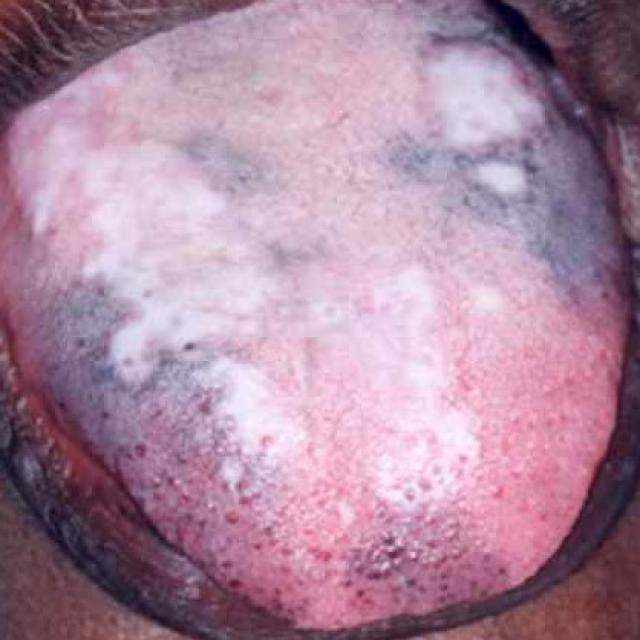Cancer: (410, 8, 624, 282), (48, 270, 246, 517)
